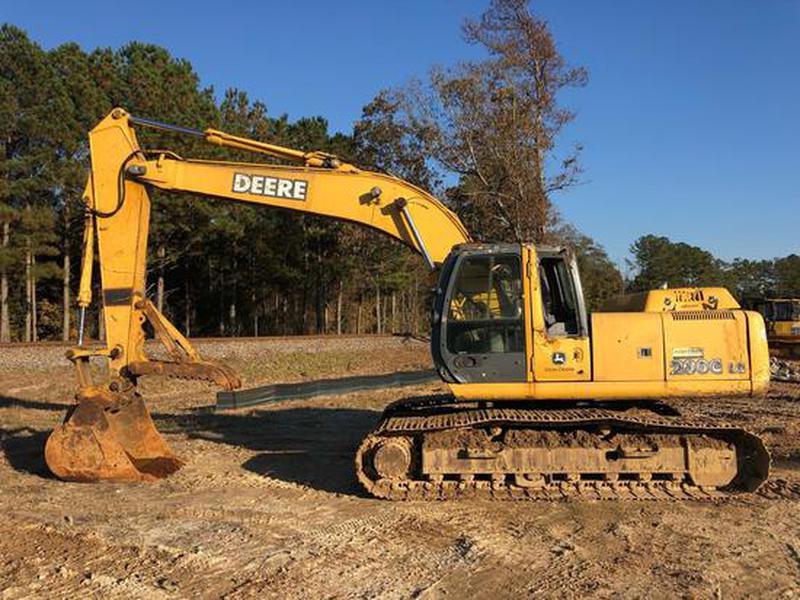shovel: (40, 93, 781, 505)
